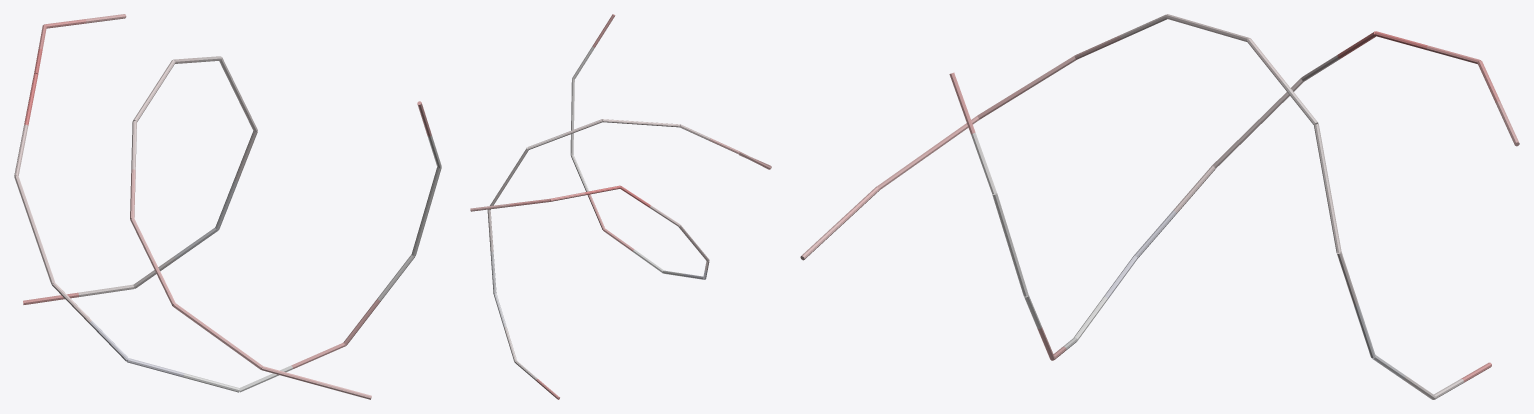
The model's file is 1bna__ribbon__b-factor.glb.
The picture shows the model from 3 angles, left to right: view 1: azimuth 30°, elevation 25°; view 2: azimuth 150°, elevation 25°; view 3: azimuth 270°, elevation 25°; orthographic projection. The views are drawn at different scales.
Parts seen in each view (by area): view 1: Renderer Node; view 2: Renderer Node; view 3: Renderer Node.
Part boxes in pixels (<box>): Renderer Node: <box>14,14,441,399</box>; Renderer Node: <box>470,14,771,399</box>; Renderer Node: <box>800,14,1519,399</box>.
Bounding box in the file's own units: 19.95 × 21.97 × 37.4.
